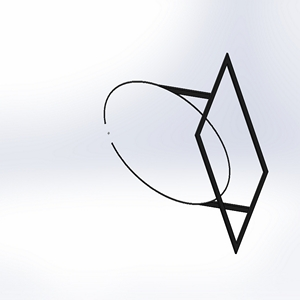circle: (102, 51, 271, 255)
